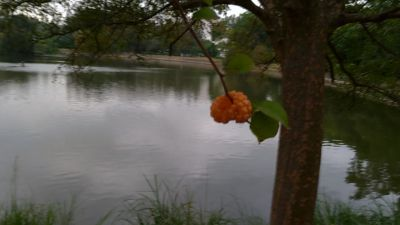eggs: (208, 86, 252, 125)
